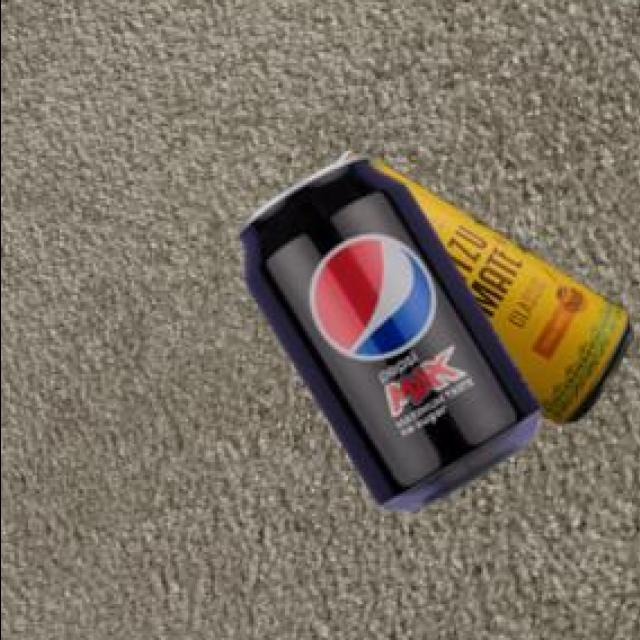logam: (235, 159, 535, 510), (364, 162, 628, 427)
